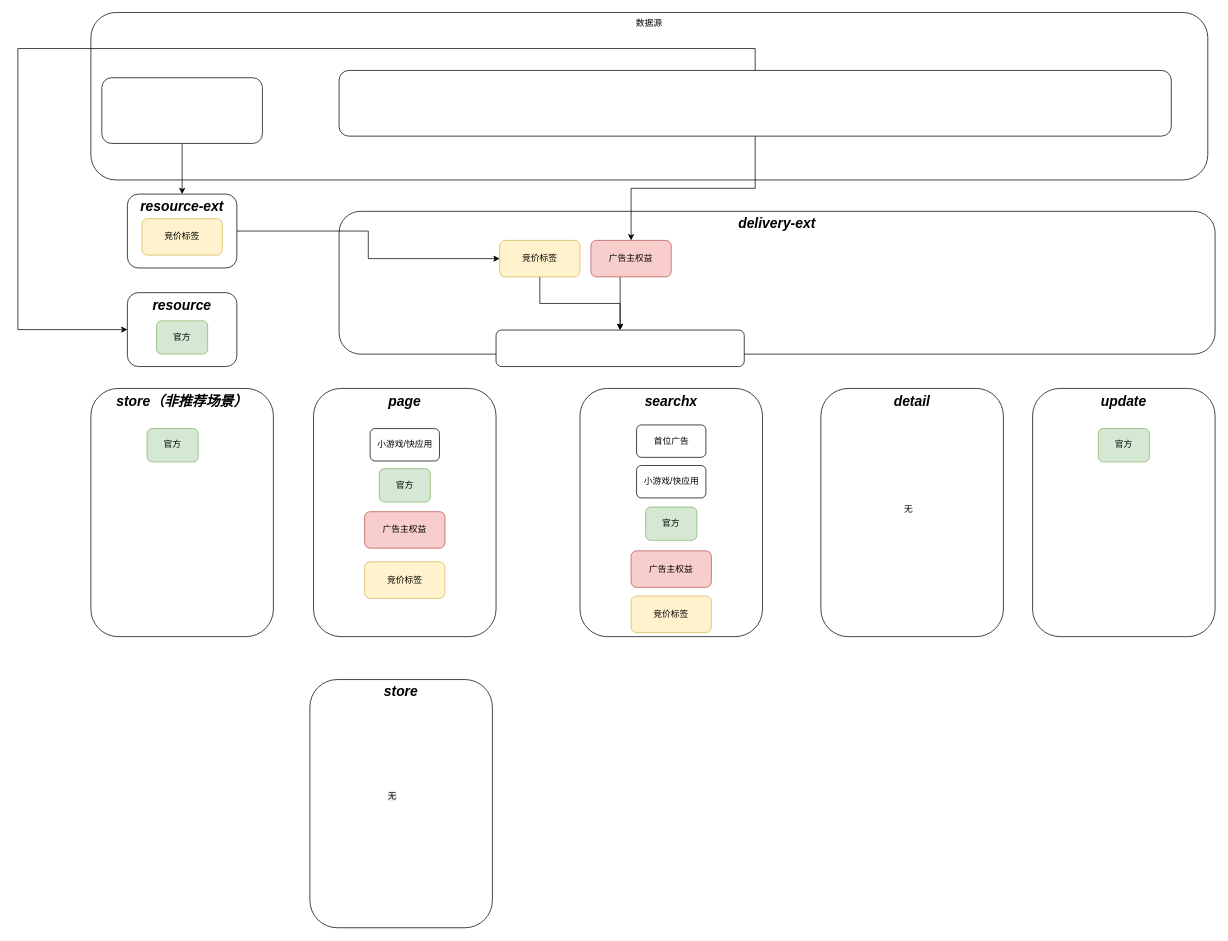
This 1228x941 diagram has some shape labels left out. The centre of each missing label's shape, as x and y in pixels:
DB app_resource app_extra_info: (x=754, y=103)
DB app_resource app_icon_content: (x=181, y=110)
queryGlobalCreativeByPage: (x=619, y=348)
